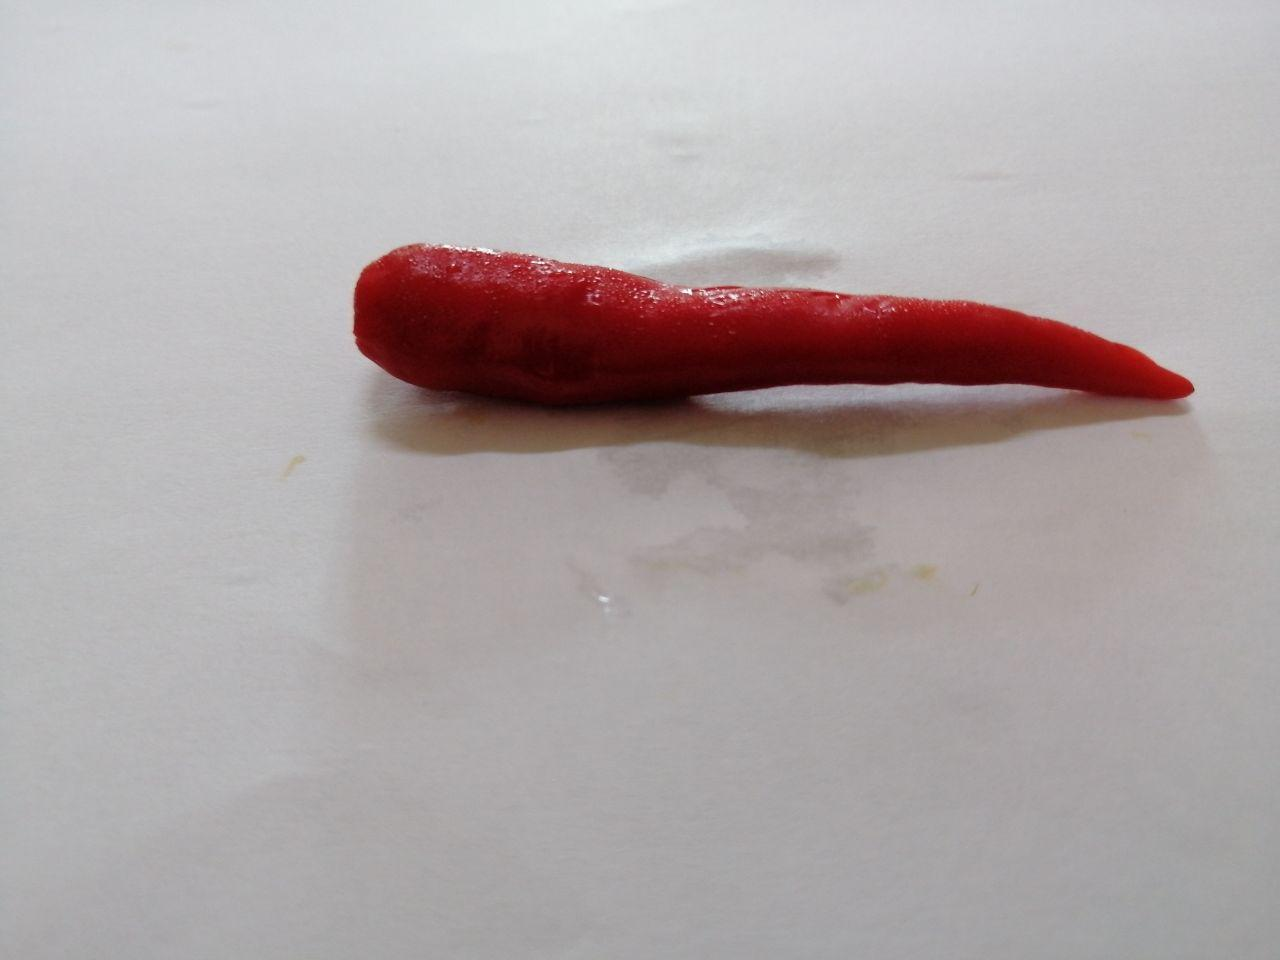lada merah: (312, 211, 1212, 486)
